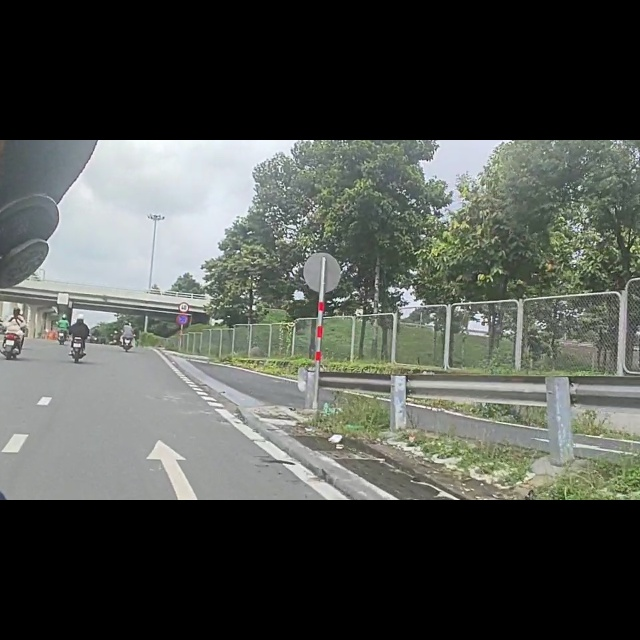bien_cam: (177, 309, 189, 329), (178, 288, 190, 306)
